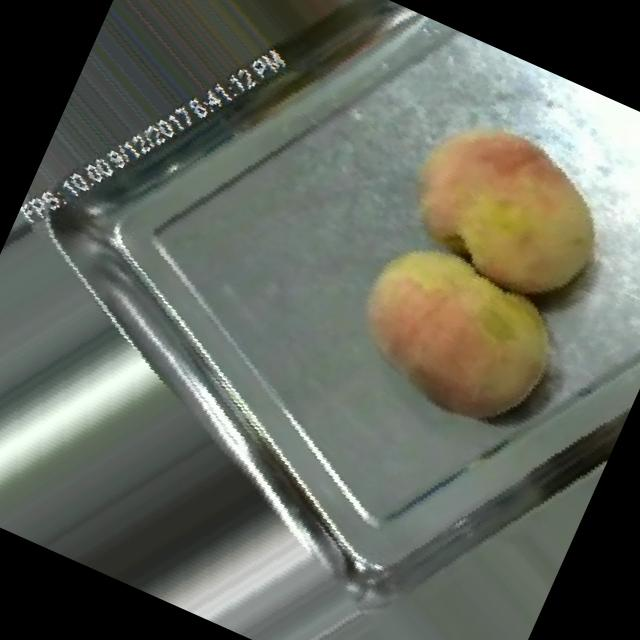Fruit: (302, 190, 610, 480), (353, 59, 640, 352)
